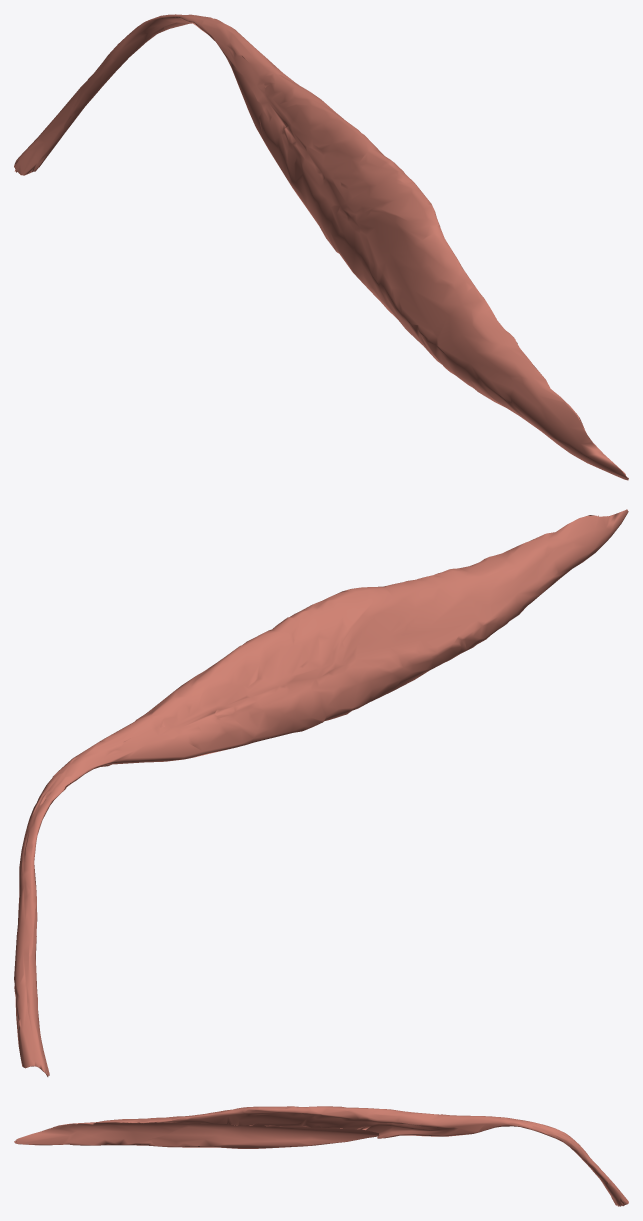
The picture shows the model from 3 angles, top to bottom: view 1: azimuth 30°, elevation 25°; view 2: azimuth 150°, elevation 25°; view 3: azimuth 270°, elevation 25°; orthographic projection. The views are drawn at different scales.
Parts seen in each view (by area): view 1: 右侧腓骨短肌; view 2: 右侧腓骨短肌; view 3: 右侧腓骨短肌.
Part boxes in pixels (x1,y1,x2,y2): 右侧腓骨短肌: [14, 14, 628, 480]; 右侧腓骨短肌: [14, 509, 628, 1076]; 右侧腓骨短肌: [14, 1106, 628, 1206].
Size of the model in its own units: 0.0419 by 0.0807 by 0.3962.
